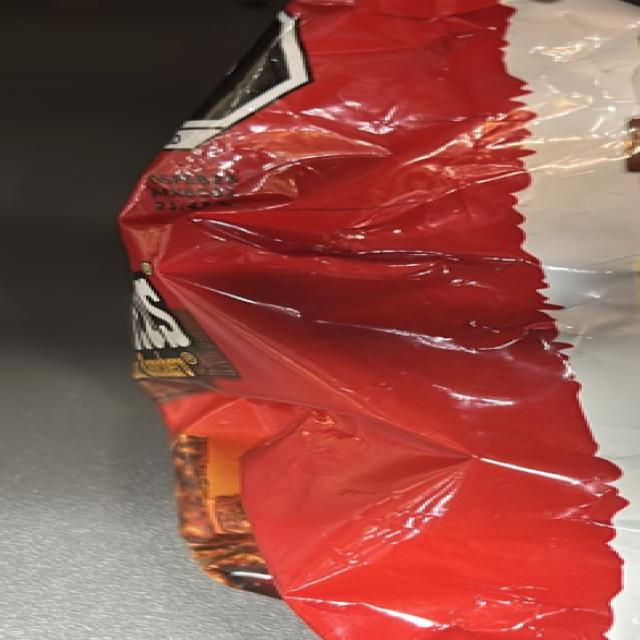rancheritos: (116, 218, 358, 590)
